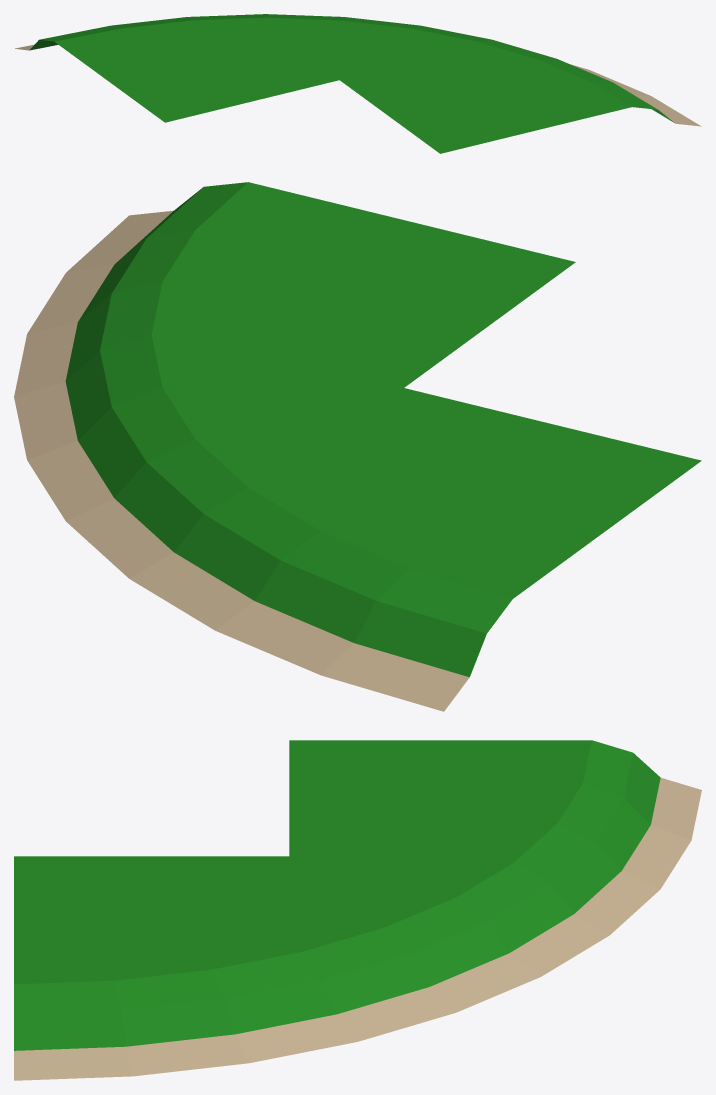
File: Hilly_Terrain_Path_Corner_Inner_3x3.obj
3 renders of one model, top to bottom at view 1: azimuth 30°, elevation 25°; view 2: azimuth 150°, elevation 25°; view 3: azimuth 270°, elevation 25°, orthographic. The views are drawn at different scales.
Parts seen in each view (by area): view 1: object1; view 2: object1; view 3: object1.
Boxes of the visible parts, box(x1,y1,x2,y2) form: object1: box(15, 14, 701, 153); object1: box(14, 182, 701, 711); object1: box(14, 740, 701, 1080).
Bounding box in the file's own units: 2.5 × 0.2 × 2.5.
